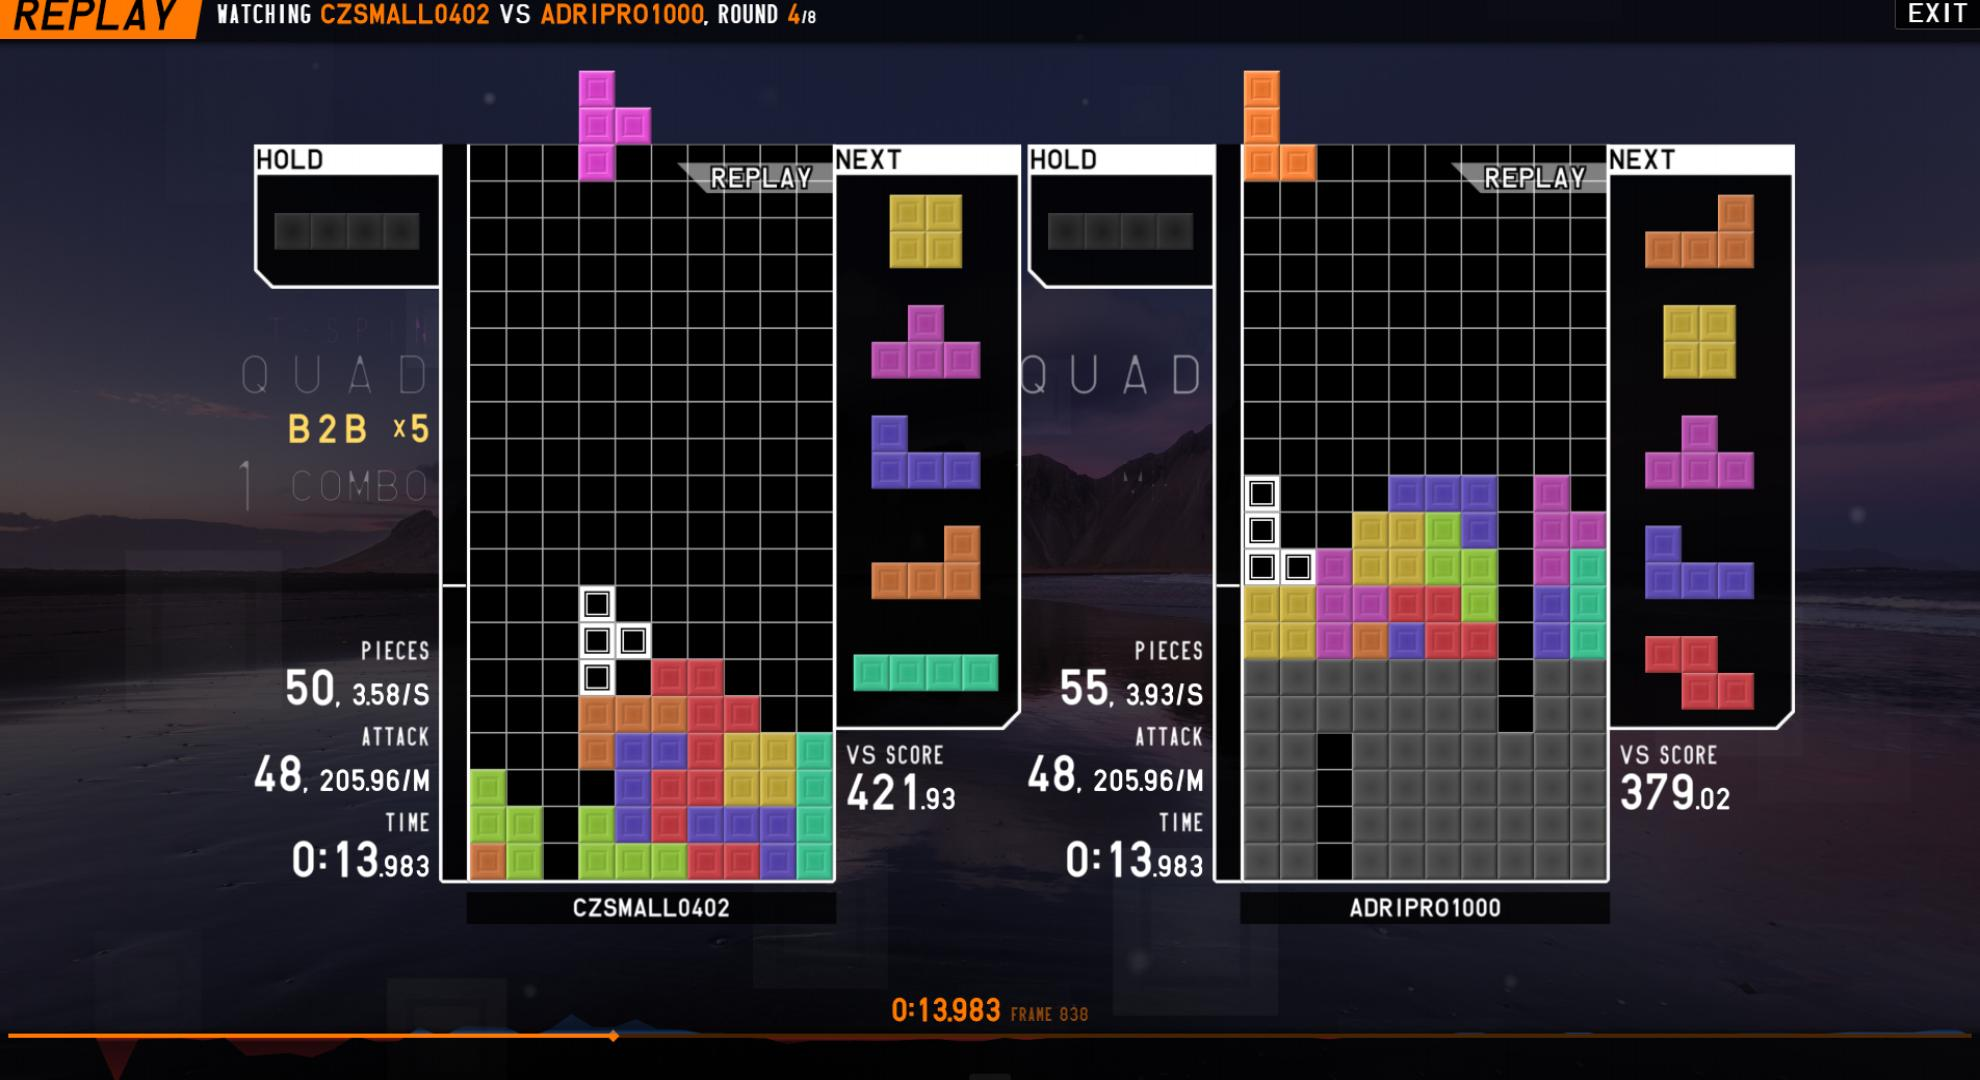tspin: (508, 725, 617, 839)
